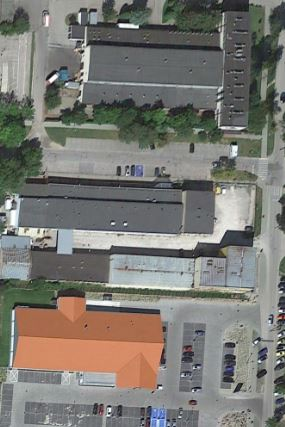block of flats: (67, 8, 259, 140), (193, 243, 261, 297)
garage: (13, 177, 220, 239), (1, 228, 197, 291)
shopping_center: (7, 292, 168, 396)
